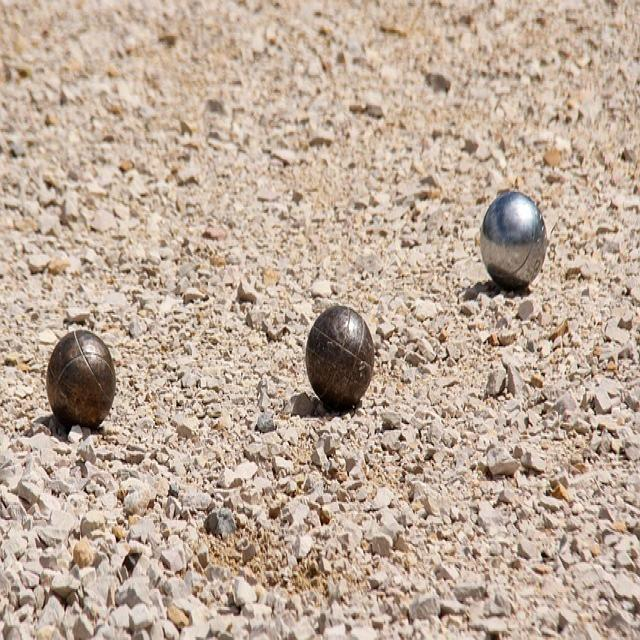petanque: (299, 297, 384, 428), (474, 188, 555, 309), (41, 327, 121, 449)
